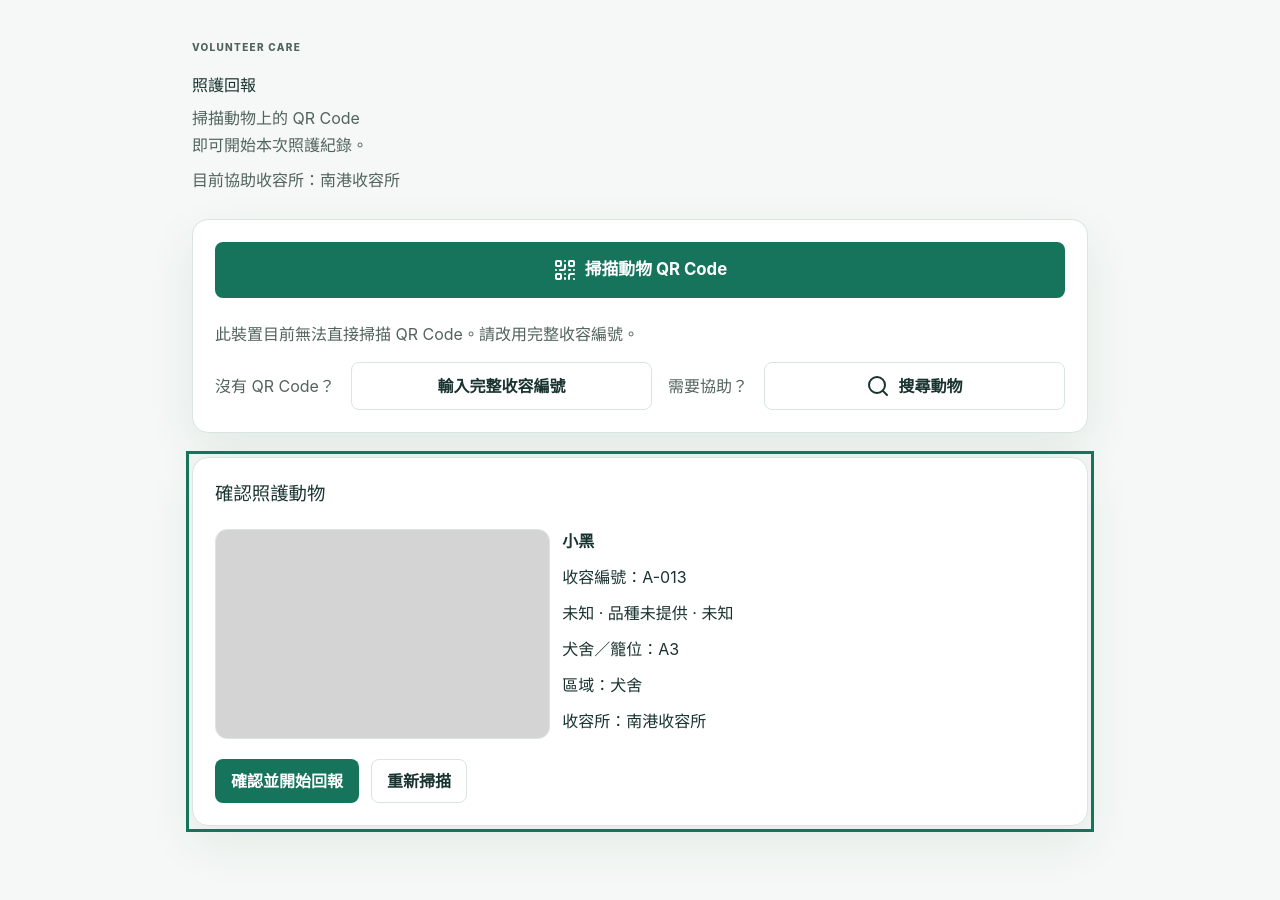
Test: QR-first animal confirmation page › keeps manual fallback when closeWindow fails and never retriggers on rerender
Click the button "確認並開始回報".
click(287, 781)  # box [215,759,359,803]
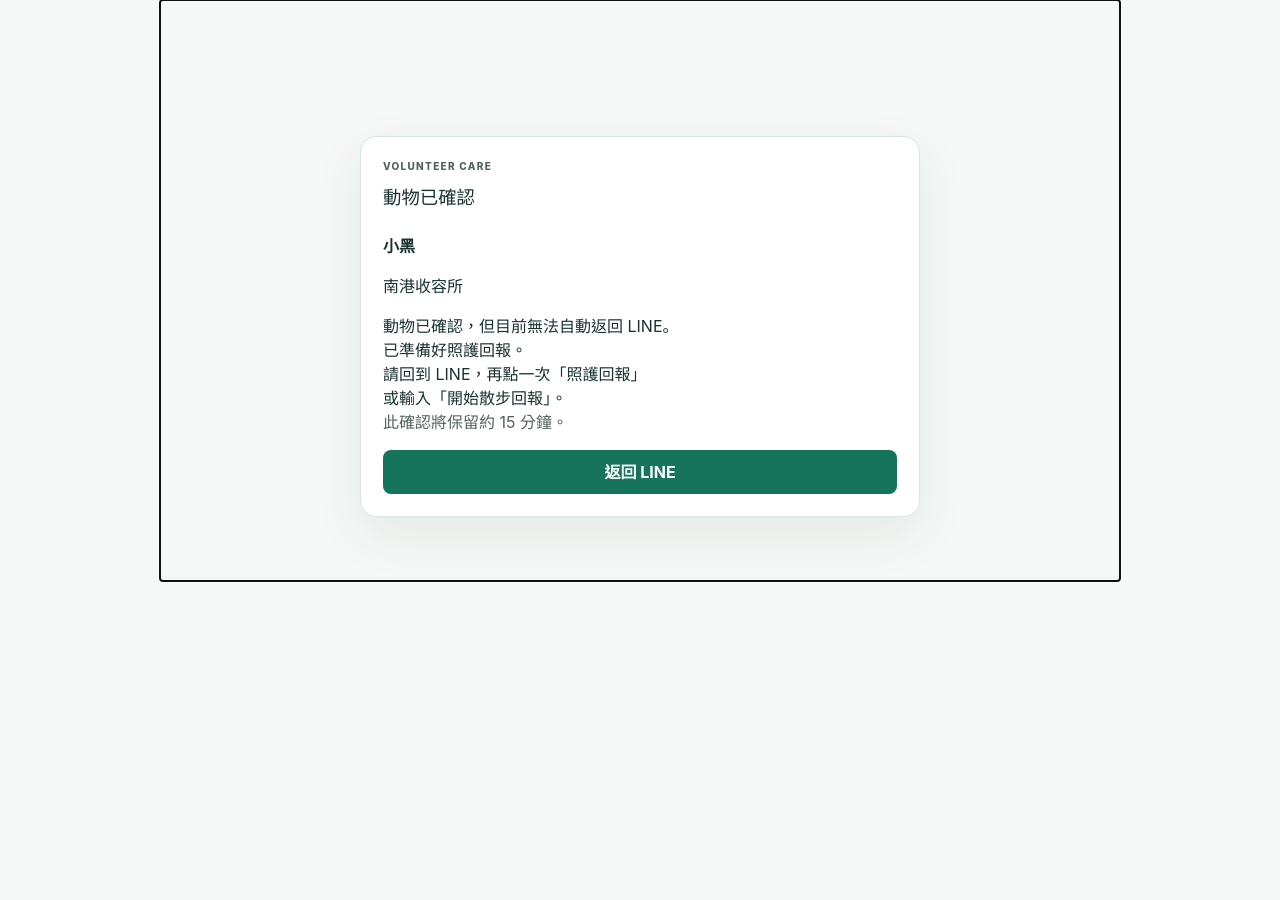
Expected: the text "再點一次「照護回報」" is shown, [383,364,646,384]
